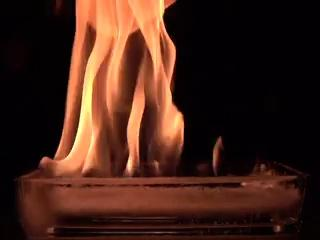Fire: (40, 1, 273, 175)
